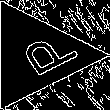P_SW: (1, 26, 73, 84)
